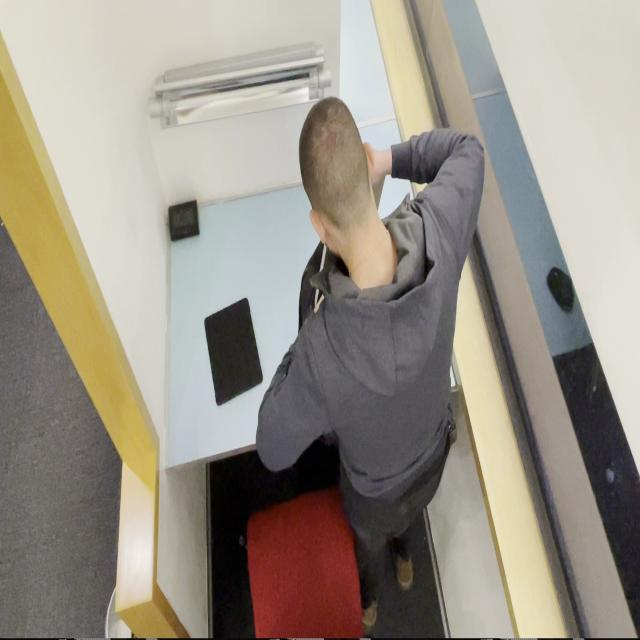bag: (204, 296, 263, 406)
ipad: (255, 96, 485, 631)
